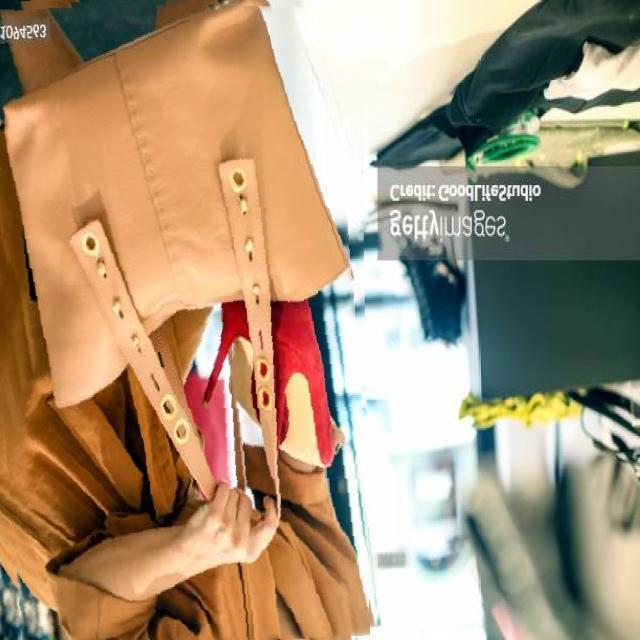Shoplifting: (0, 0, 370, 640)
